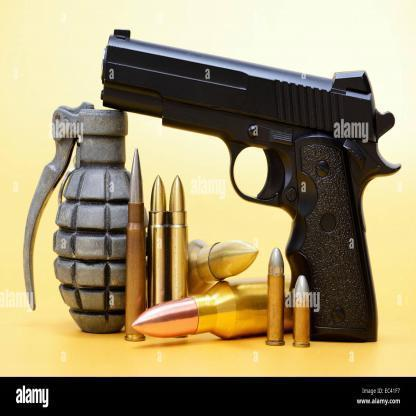Grenade: (21, 102, 140, 336)
Pistol: (100, 28, 402, 343)
